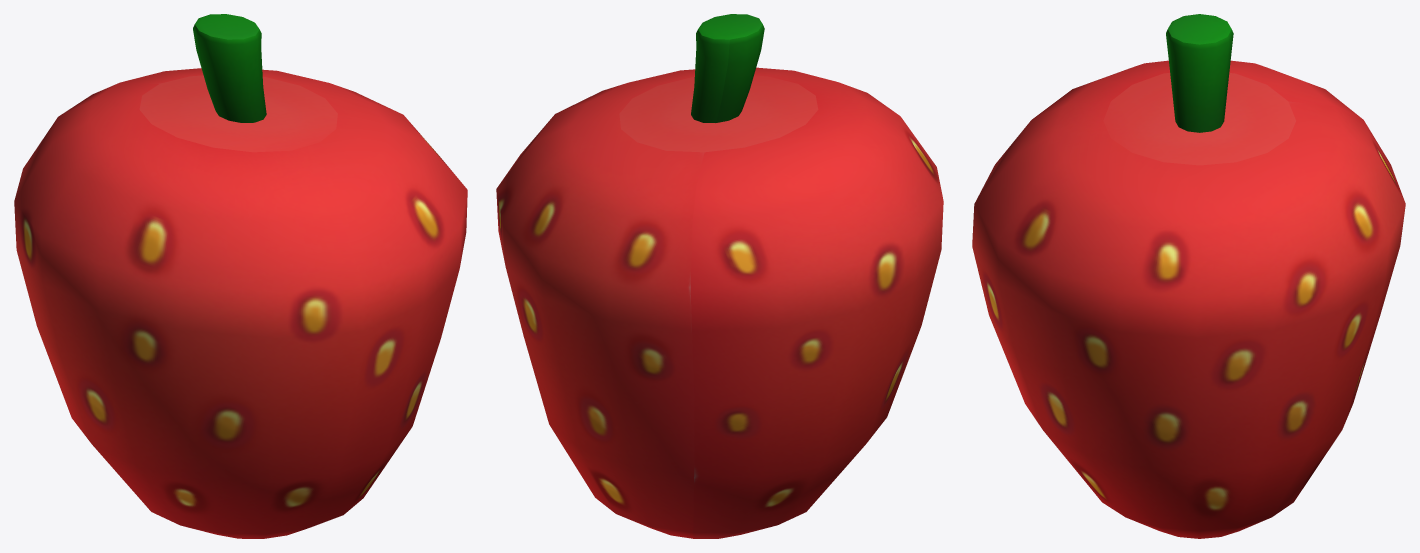
File: Strawberry_01_C_001.fbx
The picture shows the model from 3 angles, left to right: view 1: azimuth 30°, elevation 25°; view 2: azimuth 150°, elevation 25°; view 3: azimuth 270°, elevation 25°; orthographic projection. The views are drawn at different scales.
Parts seen in each view (by area): view 1: Strawberry_01_C_001; view 2: Strawberry_01_C_001; view 3: Strawberry_01_C_001.
Part boxes in pixels (x1,y1,x2,y2): Strawberry_01_C_001: (14, 14, 467, 538); Strawberry_01_C_001: (496, 14, 943, 538); Strawberry_01_C_001: (972, 14, 1405, 538).
Bounding box in the file's own units: 21.74 × 26.56 × 21.63.
